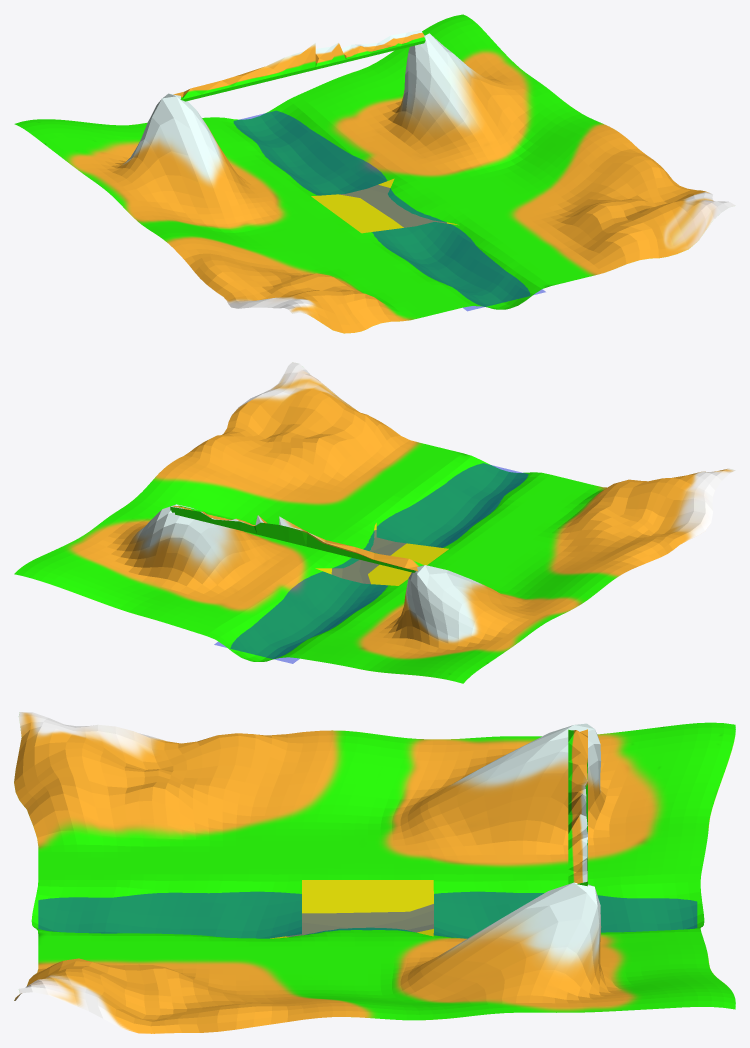
File: landscape.gltf
The picture shows the model from 3 angles, top to bottom: view 1: azimuth 30°, elevation 25°; view 2: azimuth 150°, elevation 25°; view 3: azimuth 270°, elevation 25°; orthographic projection. The views are drawn at different scales.
Visible parts, largest first — view 1: landscape, water, Cube, sand; view 2: landscape, water, Cube, sand; view 3: landscape, water, sand, Cube.
Boxes of the visible parts, x1,y1,x2,y2 form: landscape: (14, 14, 735, 333); water: (233, 110, 545, 311); Cube: (173, 30, 425, 101); sand: (311, 178, 458, 233); landscape: (14, 362, 735, 683); water: (214, 463, 528, 663); Cube: (170, 505, 423, 572); sand: (315, 523, 448, 585); landscape: (14, 712, 735, 1033); water: (38, 891, 697, 938); sand: (270, 880, 433, 938); Cube: (568, 729, 587, 886).
Bounding box in the file's own units: 53.93 × 13.14 × 54.78.
Materials: 3 (1 with a texture image).
